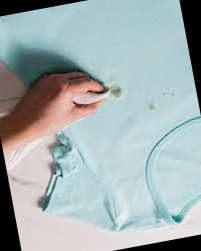oil: (109, 80, 128, 102), (145, 98, 159, 113), (162, 88, 178, 99)
